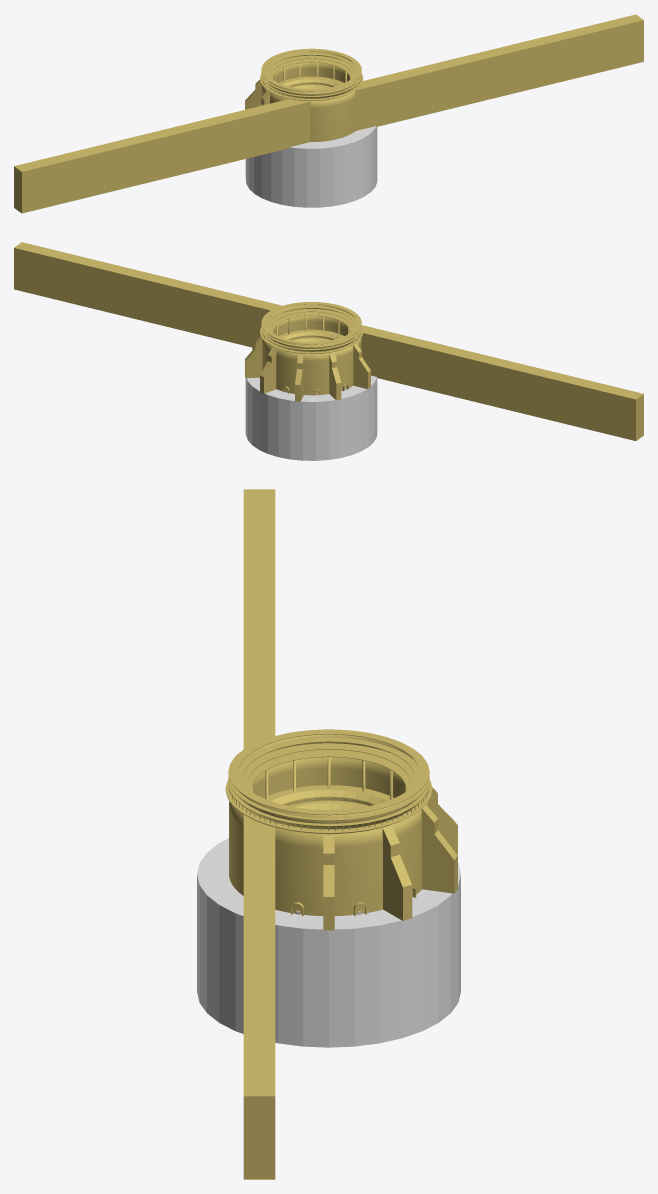
Rendered from Purgatory004.fbx.
The picture shows the model from 3 angles, top to bottom: view 1: azimuth 30°, elevation 25°; view 2: azimuth 150°, elevation 25°; view 3: azimuth 270°, elevation 25°; orthographic projection. The views are drawn at different scales.
Parts seen in each view (by area): view 1: Cube.004, Cylinder.005, OuterArenaWalls, Cylinder.004, Walls; view 2: Cube.004, Cylinder.005, OuterArenaWalls, Walls, Cylinder.004; view 3: Cylinder.005, OuterArenaWalls, Cube.004, Walls, Cylinder.004.
Boxes of the visible parts, box(x1,y1,x2,y2) form: Cube.004: box(14, 14, 643, 213); Cylinder.005: box(245, 126, 377, 207); OuterArenaWalls: box(260, 48, 363, 141); Cylinder.004: box(279, 76, 343, 88); Walls: box(245, 80, 269, 109); Cube.004: box(14, 242, 643, 440); Cylinder.005: box(245, 375, 377, 460); OuterArenaWalls: box(260, 302, 363, 395); Walls: box(245, 336, 370, 401); Cylinder.004: box(279, 329, 343, 342); Cylinder.005: box(197, 838, 460, 1047); OuterArenaWalls: box(225, 729, 432, 915); Cube.004: box(243, 489, 275, 1179); Walls: box(323, 787, 457, 930); Cylinder.004: box(263, 785, 394, 810).
Size of the model in its own units: 182447 by 30824 by 33526.
